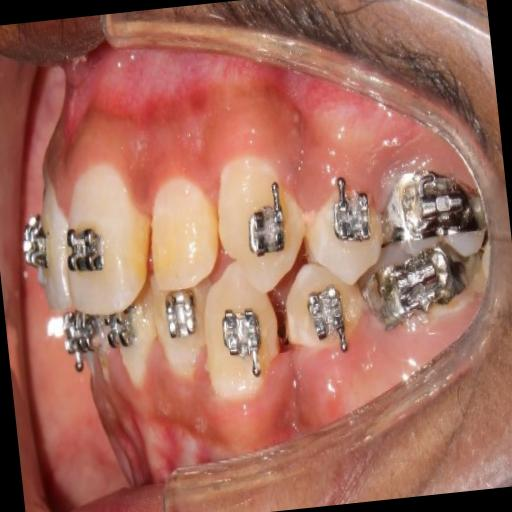correct_brace: (280, 259, 374, 375), (303, 164, 388, 288), (235, 178, 291, 260), (218, 306, 270, 386), (303, 280, 355, 356), (62, 212, 109, 288)
incorrect_brace: (324, 172, 376, 250)
